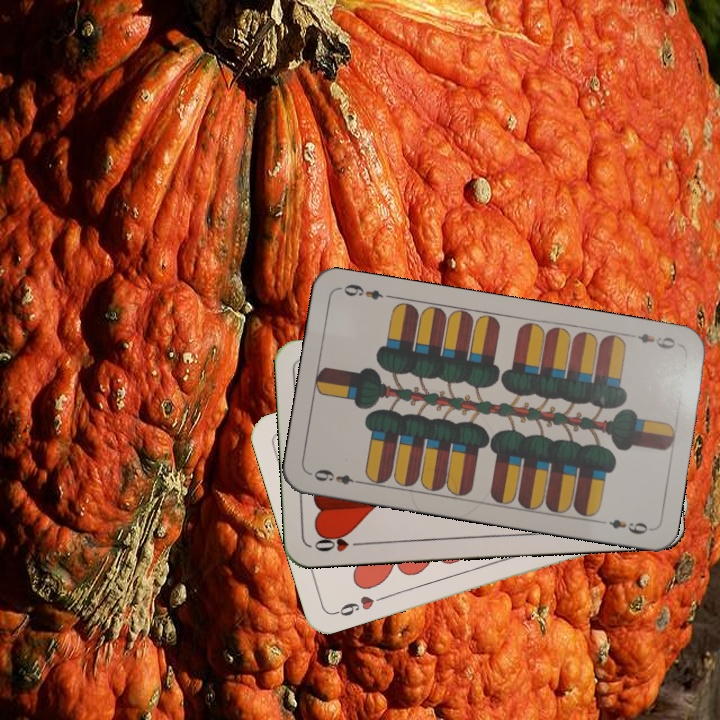E9: (307, 465, 366, 487), (633, 329, 678, 352)
H9: (330, 591, 387, 619)
HO: (310, 530, 368, 555)
